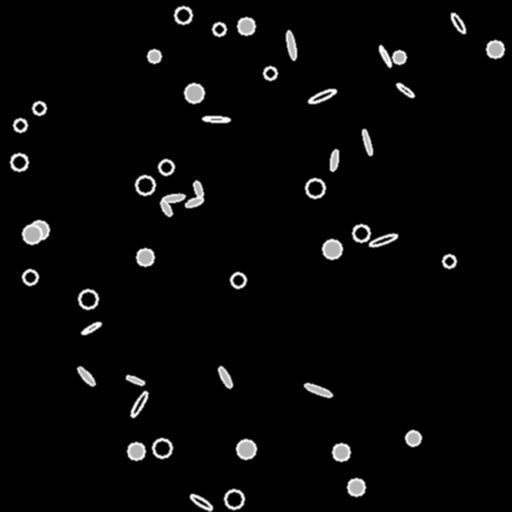pseudomonas: (129, 390, 149, 418), (368, 232, 398, 248), (303, 382, 333, 398), (308, 88, 336, 104), (189, 493, 213, 511), (217, 365, 233, 389), (77, 366, 95, 386), (377, 45, 393, 67), (450, 12, 466, 34), (285, 31, 297, 59), (395, 82, 415, 98), (361, 129, 373, 155), (184, 195, 204, 209), (81, 321, 101, 335), (159, 199, 173, 217), (125, 374, 145, 386), (162, 193, 184, 203), (192, 180, 204, 198), (329, 150, 339, 170), (203, 116, 229, 122)
synechocystis: (185, 84, 203, 102), (30, 221, 48, 239), (23, 225, 41, 243), (237, 440, 255, 458), (153, 439, 171, 457), (306, 179, 324, 197), (323, 240, 341, 258), (79, 290, 97, 308), (136, 176, 154, 194), (225, 490, 243, 508), (333, 444, 349, 460), (238, 18, 254, 34), (487, 41, 503, 57), (348, 479, 364, 495), (128, 443, 144, 459), (175, 7, 191, 23), (11, 154, 27, 170), (137, 249, 153, 265), (353, 225, 369, 241), (159, 160, 173, 174), (231, 273, 245, 287), (23, 270, 37, 284), (406, 431, 420, 445), (14, 119, 26, 131), (33, 102, 45, 114), (213, 23, 225, 35), (393, 51, 405, 63), (443, 255, 455, 267), (148, 50, 160, 62), (264, 67, 276, 79)
